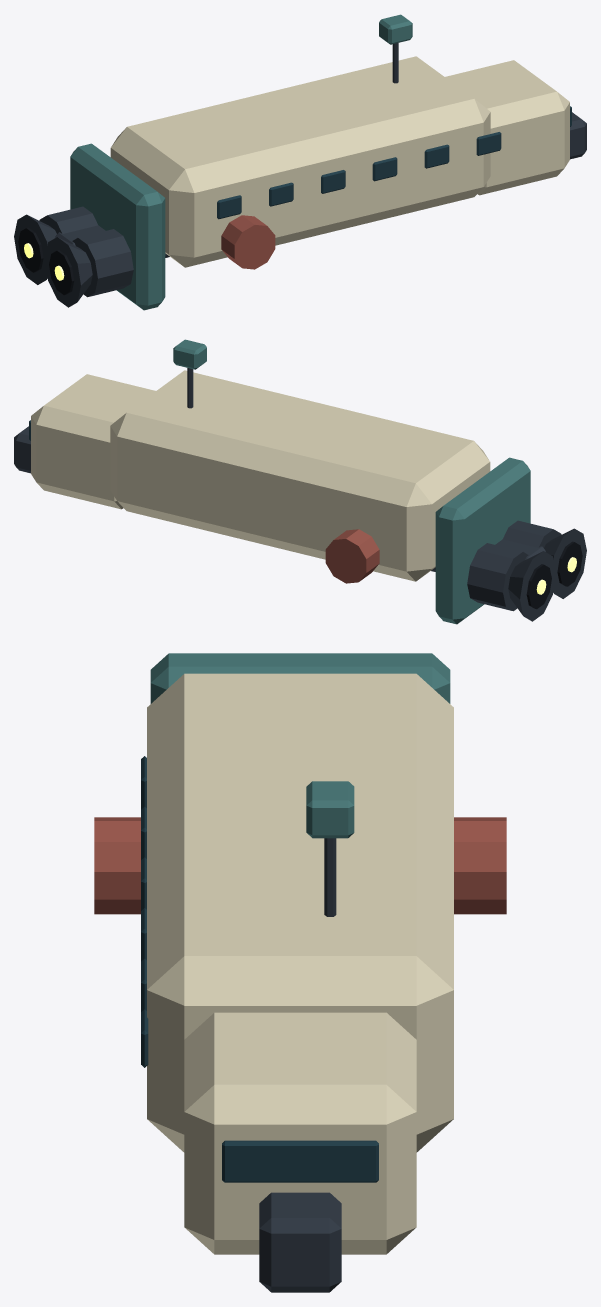
File: short-notice.glb
3 renders of one model, top to bottom at view 1: azimuth 30°, elevation 25°; view 2: azimuth 150°, elevation 25°; view 3: azimuth 270°, elevation 25°, orthographic. The views are drawn at different scales.
Parts seen in each view (by area): view 1: passenger cabin, forward command, reactor shield, engine jacket, docking collar, engine bell, engine bell.001, structural spine, engine jacket.001, sensor head, engine throat.001, engine throat (+6 smaller); view 2: passenger cabin, forward command, reactor shield, engine jacket.001, docking collar.001, engine bell.001, engine bell, structural spine, engine jacket, sensor head, engine throat, engine throat.001; view 3: passenger cabin, forward command, structural spine, reactor shield, bridge glazing, docking collar.001, docking collar, sensor head, radio mast.
Boxes of the visible parts, x1,y1,x2,y2 form: passenger cabin: (110,56,490,267); forward command: (445,60,569,195); reactor shield: (70,143,165,310); engine jacket: (72,229,133,297); docking collar: (221,215,275,269); engine bell: (44,237,92,307); engine bell.001: (14,214,56,284); structural spine: (55,112,586,257); engine jacket.001: (39,206,97,233); sensor head: (379,14,412,44); engine throat.001: (18,227,43,272); engine throat: (49,250,74,295); passenger cabin: (110,370,490,581); forward command: (31,374,155,509); reactor shield: (435,457,530,624); engine jacket.001: (467,543,528,611); docking collar.001: (325,529,379,583); engine bell.001: (508,551,553,621); engine bell: (544,528,586,598); structural spine: (14,426,545,571); engine jacket: (503,520,561,547); sensor head: (173,339,206,369); engine throat: (557,541,582,586); engine throat.001: (526,564,551,609); passenger cabin: (147,673,453,1152); forward command: (184,1012,416,1254); structural spine: (259,1192,341,1292); reactor shield: (150,653,450,703); bridge glazing: (222,1140,378,1182); docking collar.001: (454,817,506,914); docking collar: (94,817,140,914); sensor head: (306,781,354,838); radio mast: (324,838,336,916).
Size of the model in its own units: 8.27 by 2.79 by 2.75.
